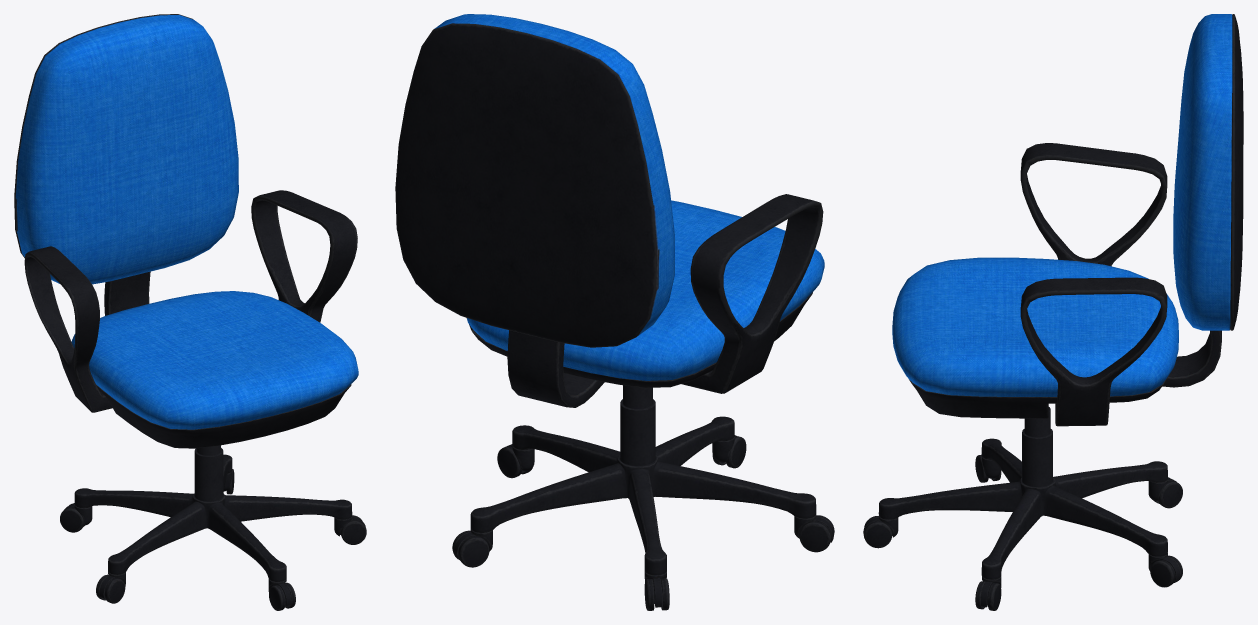
File: Chair.glb
3 renders of one model, left to right at view 1: azimuth 30°, elevation 25°; view 2: azimuth 150°, elevation 25°; view 3: azimuth 270°, elevation 25°, orthographic. The views are drawn at different scales.
Parts seen in each view (by area): view 1: Chair_; view 2: Chair_; view 3: Chair_.
Boxes of the visible parts, x1,y1,x2,y2 form: Chair_: (14,14,366,610); Chair_: (395,14,834,610); Chair_: (863,14,1243,610).
Size of the model in its own units: 0.6782 by 1.06 by 0.7217.
1 material, 1 textured.
